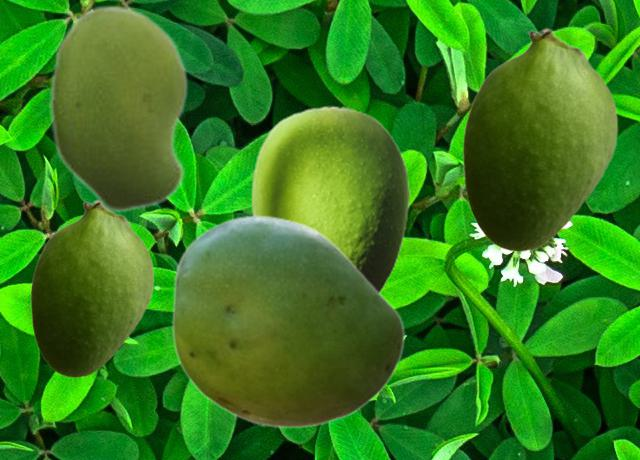green_mango: (171, 214, 404, 428), (462, 27, 617, 250), (250, 105, 409, 293), (49, 4, 188, 213), (30, 199, 153, 376)
